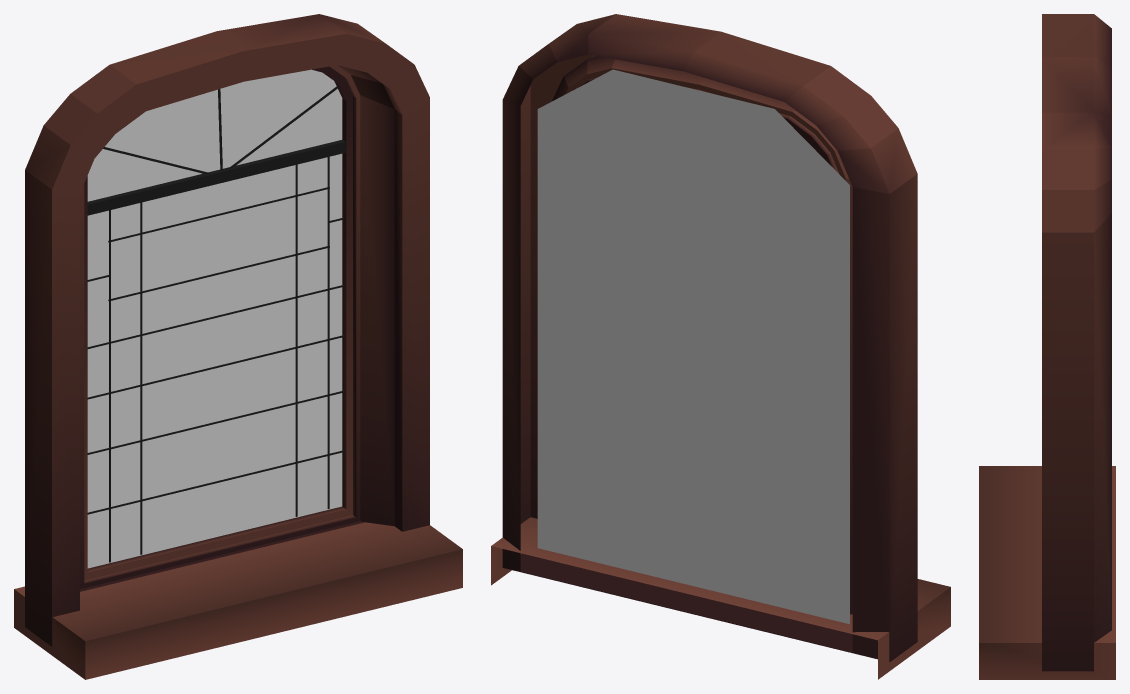
File: janela2.fbx
3 views of the same model, side by side, from view 1: azimuth 30°, elevation 25°; view 2: azimuth 150°, elevation 25°; view 3: azimuth 270°, elevation 25° (orthographic). The views are drawn at different scales.
Visible parts, largest first — view 1: janelao; view 2: janelao; view 3: janelao.
Boxes of the visible parts, x1,y1,x2,y2 form: janelao: (14,14,462,679); janelao: (491,14,950,679); janelao: (979,14,1115,679).
Bounding box in the file's own units: 623 × 880 × 204.
